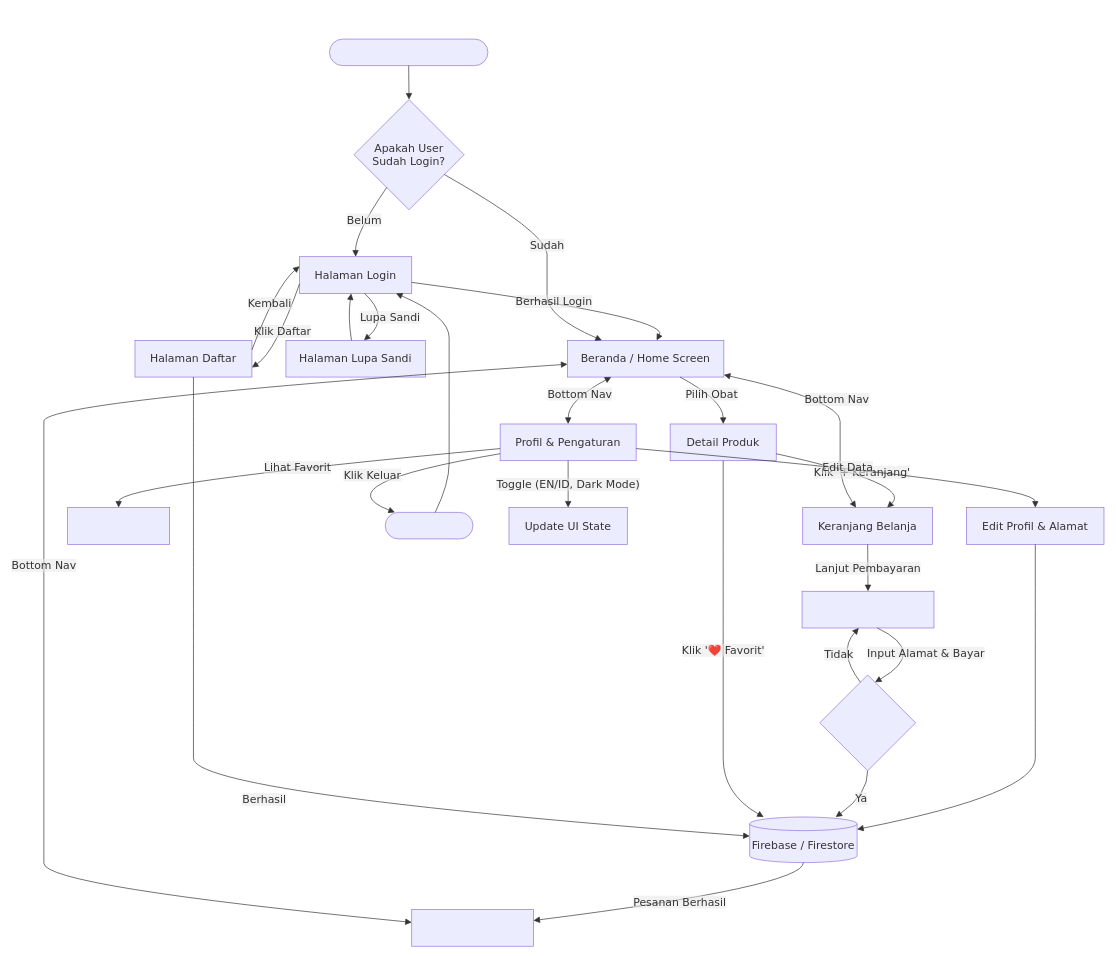
Some shapes in this 1116 by 958 pixel diagram are drawn without their labels. Each missing label, with the box of its shape:
Buka Aplikasi / Splash Screen: (329, 38, 488, 66)
Data Valid?: (819, 674, 916, 771)
Halaman Checkout: (801, 591, 934, 628)
Keluar Aplikasi: (385, 512, 473, 539)
Obat Favorit: (67, 507, 170, 544)
Riwayat Pesanan: (411, 909, 533, 946)
